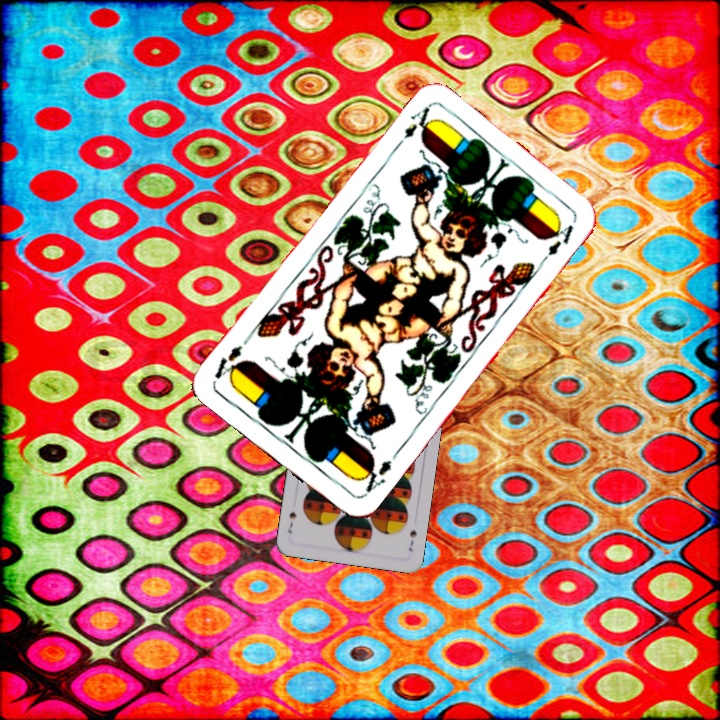EA: (354, 448, 401, 499), (390, 102, 437, 153)
S7: (405, 526, 419, 554)
